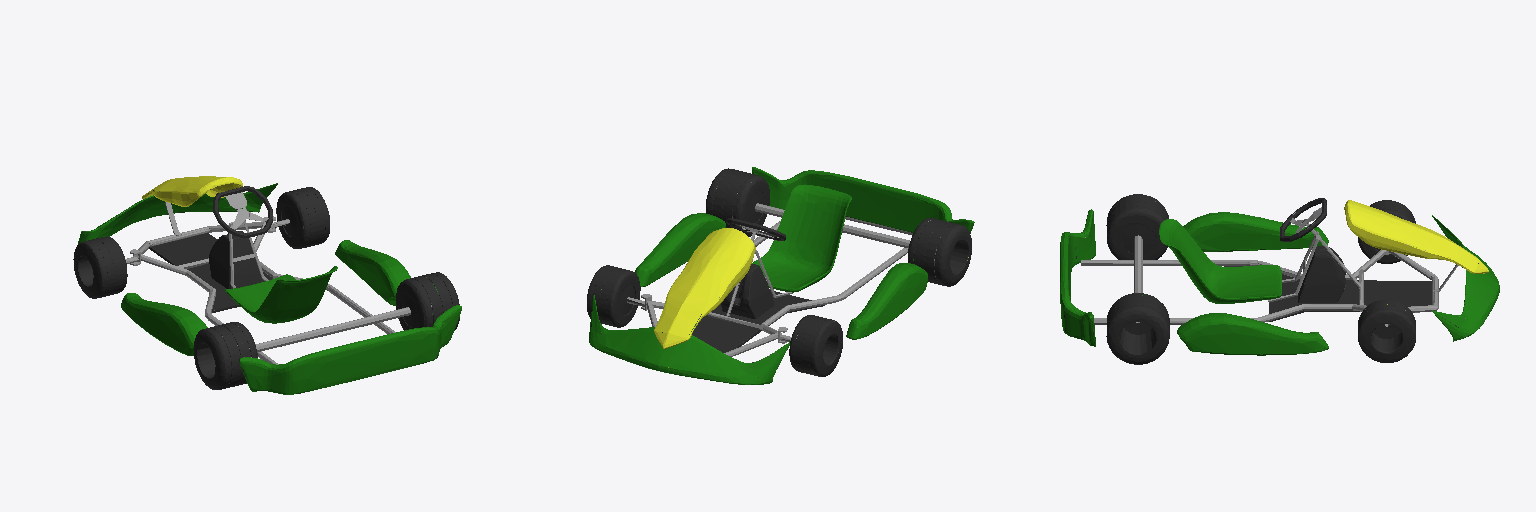
3 views of the same model, side by side, from view 1: azimuth 30°, elevation 25°; view 2: azimuth 150°, elevation 25°; view 3: azimuth 270°, elevation 25° (orthographic).
Parts seen in each view (by area): view 1: kart; view 2: kart; view 3: kart.
Part boxes in pixels (left/top/right/bottom): kart: left=73, top=176, right=461, bottom=394; kart: left=587, top=167, right=974, bottom=384; kart: left=1060, top=194, right=1499, bottom=364.
Bounding box in the file's own units: 4.28 × 1.78 × 6.75.
1 materials, 1 textured.